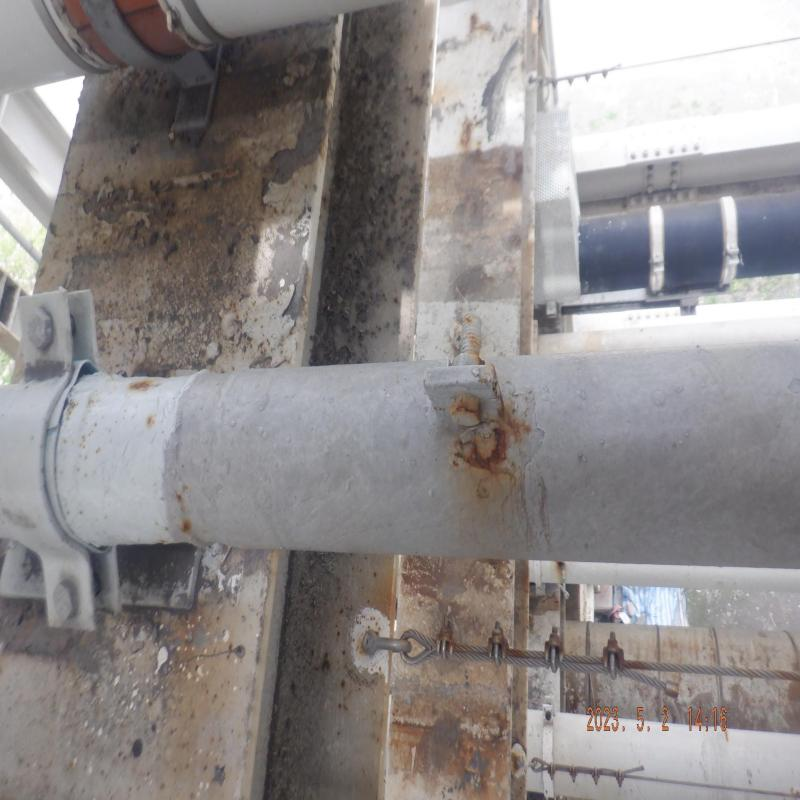corrosion: (470, 404, 508, 466)
